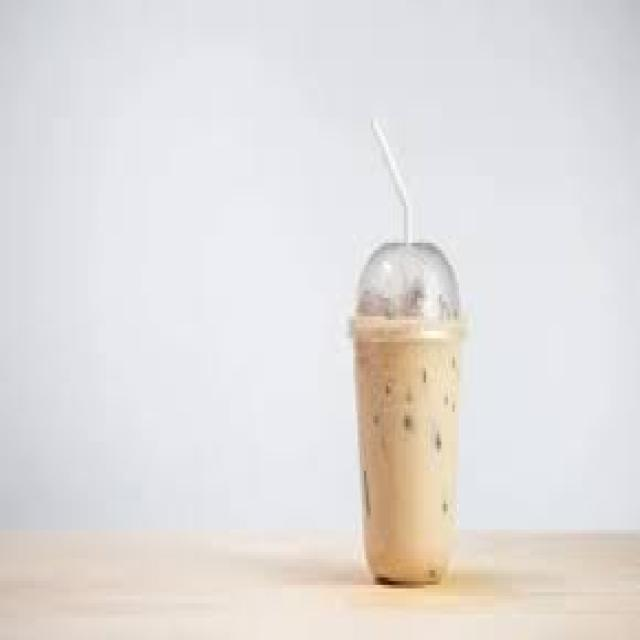bottle: (354, 315, 460, 582)
